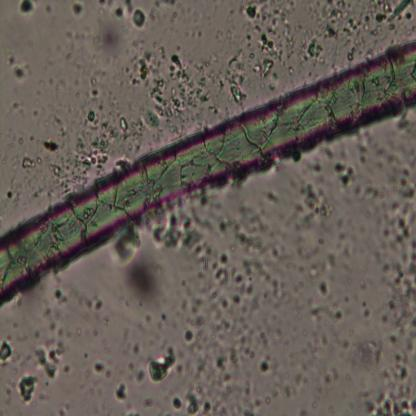Background material: (192, 210, 279, 398), (377, 164, 416, 414), (146, 48, 209, 128), (44, 124, 113, 190), (280, 327, 338, 399), (284, 233, 346, 279), (147, 210, 208, 254), (250, 6, 297, 61), (122, 255, 167, 307), (34, 342, 70, 384), (296, 181, 333, 219), (125, 46, 161, 84), (342, 2, 376, 40), (97, 9, 123, 58), (223, 53, 245, 108), (126, 105, 148, 154), (147, 351, 177, 383), (309, 302, 348, 326), (278, 210, 318, 233), (301, 145, 327, 177), (357, 341, 384, 370), (114, 228, 136, 262), (31, 317, 66, 338), (352, 134, 376, 162), (16, 374, 38, 404), (145, 0, 175, 22), (300, 40, 326, 64), (386, 1, 413, 24), (0, 374, 18, 408), (8, 57, 28, 84), (335, 160, 356, 185), (252, 61, 278, 81), (396, 112, 416, 138), (357, 294, 376, 319), (265, 182, 281, 210), (239, 4, 261, 22), (128, 361, 144, 384), (320, 25, 340, 43), (132, 7, 147, 30), (0, 341, 13, 367), (81, 296, 105, 310), (185, 392, 200, 414), (89, 73, 100, 102), (30, 185, 52, 199), (116, 114, 130, 136), (54, 290, 70, 308), (69, 2, 85, 19), (53, 400, 70, 416), (140, 393, 155, 411), (18, 1, 37, 15), (116, 379, 128, 401), (258, 358, 272, 376), (44, 139, 60, 154), (346, 46, 358, 64), (84, 110, 98, 125), (290, 148, 303, 164), (13, 130, 26, 146), (318, 281, 330, 297), (172, 395, 182, 412), (143, 310, 155, 324), (21, 157, 36, 168), (158, 312, 171, 323), (114, 7, 124, 21), (132, 342, 142, 356), (126, 0, 136, 13), (94, 361, 104, 373), (104, 366, 114, 378), (176, 363, 185, 376), (202, 403, 212, 414), (6, 190, 15, 201), (376, 12, 383, 23), (98, 0, 107, 7), (12, 101, 18, 110)
Diatom: (183, 330, 193, 342)
Hair: (0, 41, 416, 309)
